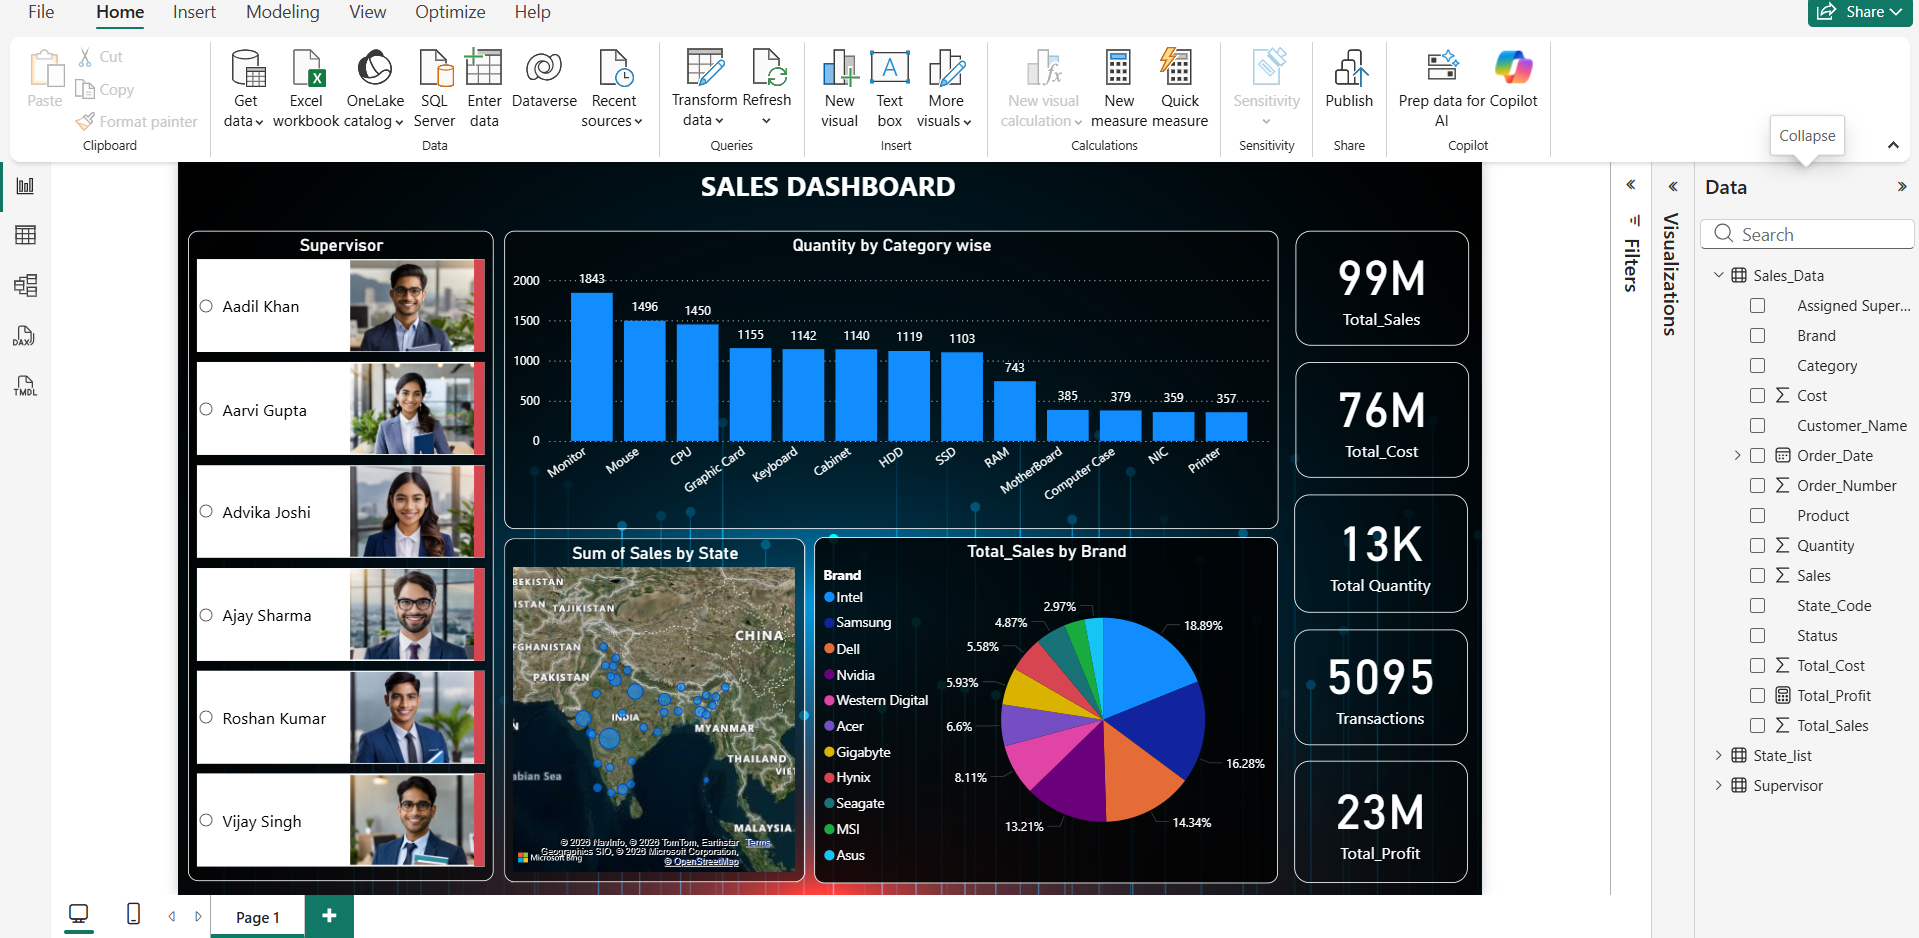

The dashboard page shown, as its layout file describes it:
{"tool":"powerbi","page":{"name":"Page 1","canvas":[1280,720],"ordinal":0},"visuals":[{"type":"textbox","box":[9.6,0,1257,48],"z":0},{"type":"card","fields":{"Values":["Sum(Sales_Data.Total_Sales)"]},"box":[1097.5,67.5,170,112.5],"z":1000},{"type":"card","fields":{"Values":["Sum(Sales_Data.Total_Cost)"]},"box":[1097.5,196.2,170,113.8],"z":2000},{"type":"card","fields":{"Values":["Sum(Sales_Data.Quantity)"]},"box":[1096.2,326.2,170,116.2],"z":3000},{"type":"card","fields":{"Values":["CountNonNull(Sales_Data.Order_Number)"]},"box":[1096.2,458.8,170,113.8],"z":4000},{"type":"card","fields":{"Values":["Sales_Data.Total_Profit"]},"box":[1096.2,587.5,170,120],"z":5000},{"type":"clusteredColumnChart","title":"Quantity by Category wise","fields":{"Y":["Sum(Sales_Data.Quantity)"],"Category":["Sales_Data.Category"]},"box":[320,67.5,760,292.5],"z":6000},{"type":"pieChart","fields":{"Y":["Sum(Sales_Data.Total_Sales)"],"Category":["Sales_Data.Brand"]},"box":[625,367.5,455,340],"z":7000},{"type":"map","title":"Sum of Sales by State","fields":{"Category":["State_list.State"],"Size":["Sum(Sales_Data.Sales)"]},"box":[320,368.8,295,337.5],"z":8000},{"type":"listSlicer","fields":{"Values":["Supervisor.Supervisor"]},"box":[10,67.5,300,638.8],"z":9000}]}

Visuals, with their boxes on the page's 1280x720 design canvas (x1, y1, x2, y2). These are canvas units, not pixel positions in the 1919x938 screenshot, which may show the page scaled, cropped or inside an application window:
textbox: crop(10, 0, 1267, 48)
card - Sum(Sales_Data.Total_Sales): crop(1098, 68, 1268, 180)
card - Sum(Sales_Data.Total_Cost): crop(1098, 196, 1268, 310)
card - Sum(Sales_Data.Quantity): crop(1096, 326, 1266, 442)
card - CountNonNull(Sales_Data.Order_Number): crop(1096, 459, 1266, 573)
card - Sales_Data.Total_Profit: crop(1096, 588, 1266, 708)
"Quantity by Category wise" clusteredColumnChart: crop(320, 68, 1080, 360)
pieChart - Sum(Sales_Data.Total_Sales) x Sales_Data.Brand: crop(625, 368, 1080, 708)
"Sum of Sales by State" map: crop(320, 369, 615, 706)
listSlicer - Supervisor.Supervisor: crop(10, 68, 310, 706)
